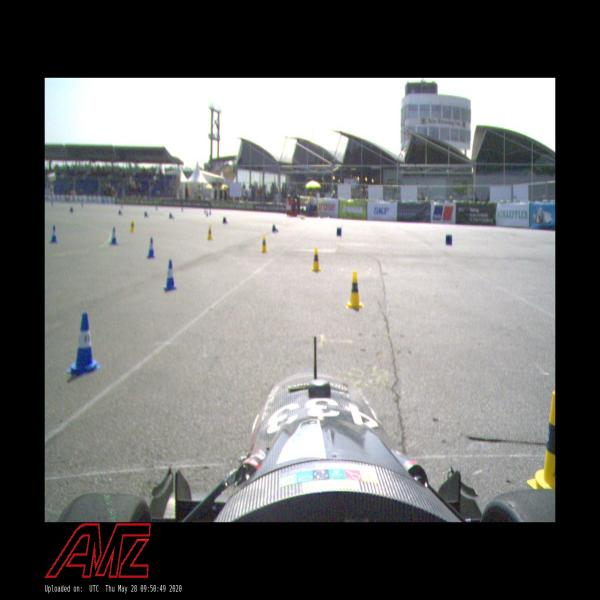blue_cone: (70, 312, 98, 375), (163, 259, 177, 293), (146, 236, 156, 260), (109, 226, 118, 246), (50, 224, 58, 244), (272, 224, 278, 232), (222, 216, 228, 224), (144, 211, 150, 218), (169, 212, 174, 220), (118, 209, 124, 215)
yellow_cone: (530, 386, 555, 497), (346, 270, 364, 310), (310, 247, 321, 273), (260, 234, 268, 254), (206, 225, 213, 241), (129, 218, 136, 233)
